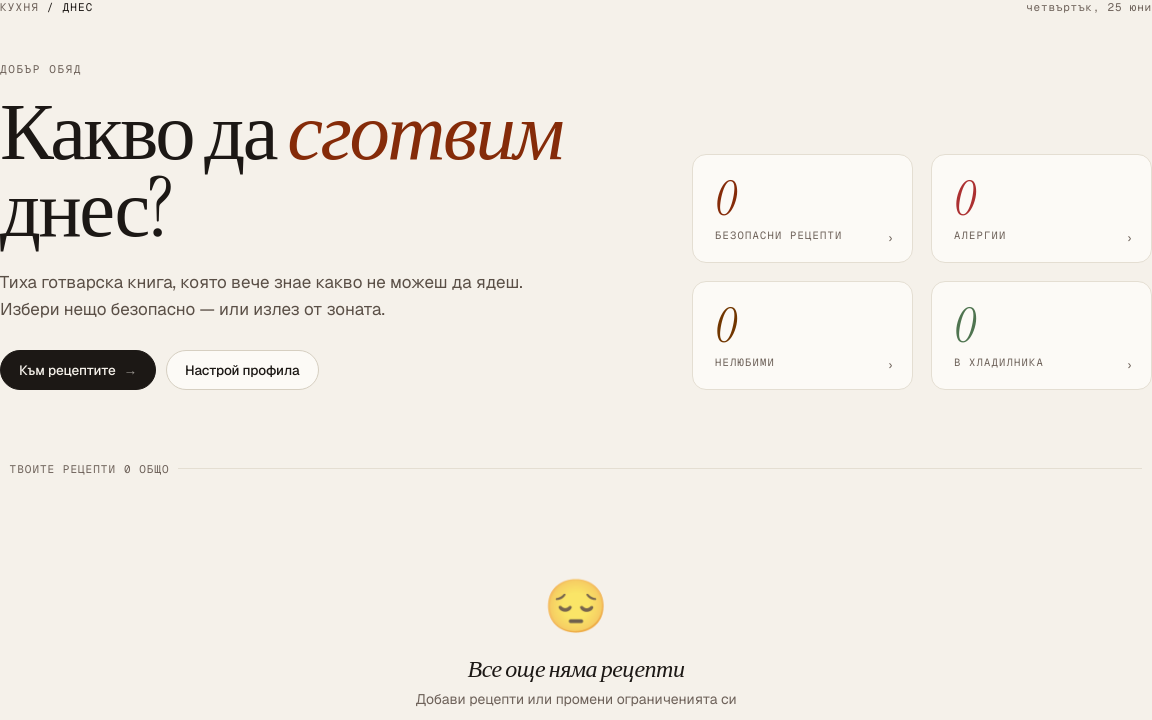
Scenario: HomeScreen – stat card modals › opens allergies modal when allergies stat is clicked
Click the text "алергии" at (980,235), box [954, 228, 1006, 242]
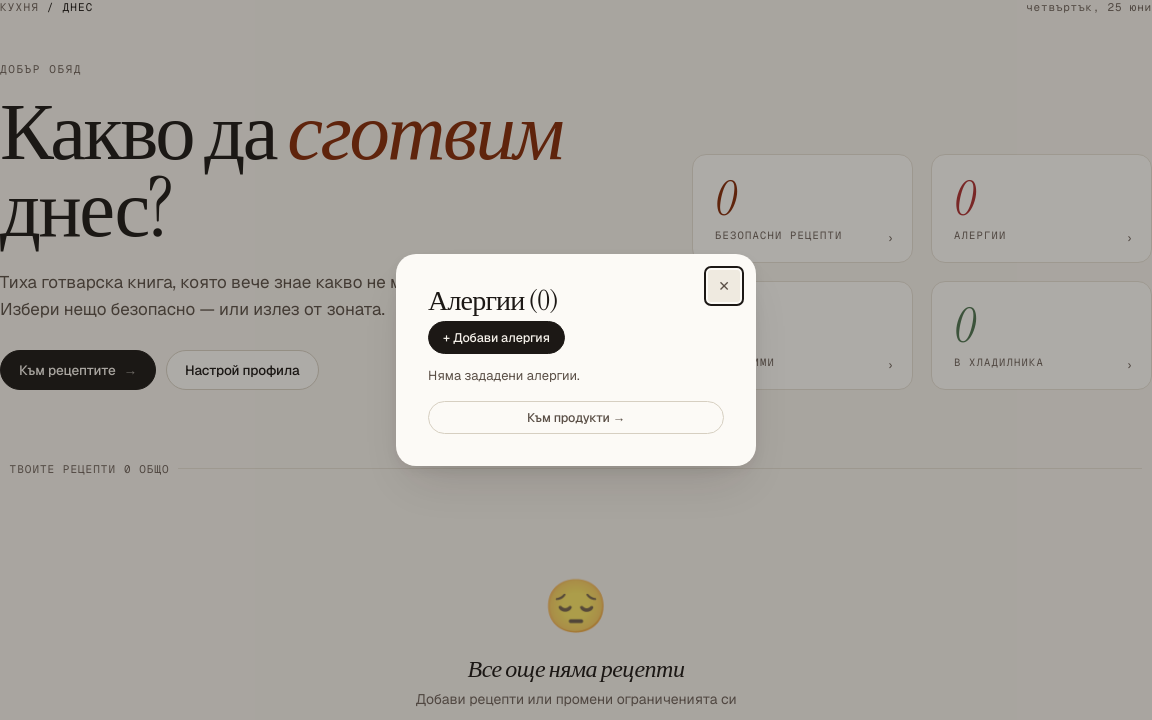
Now the text "Алергии (0)" is shown, box [428, 282, 558, 318]
